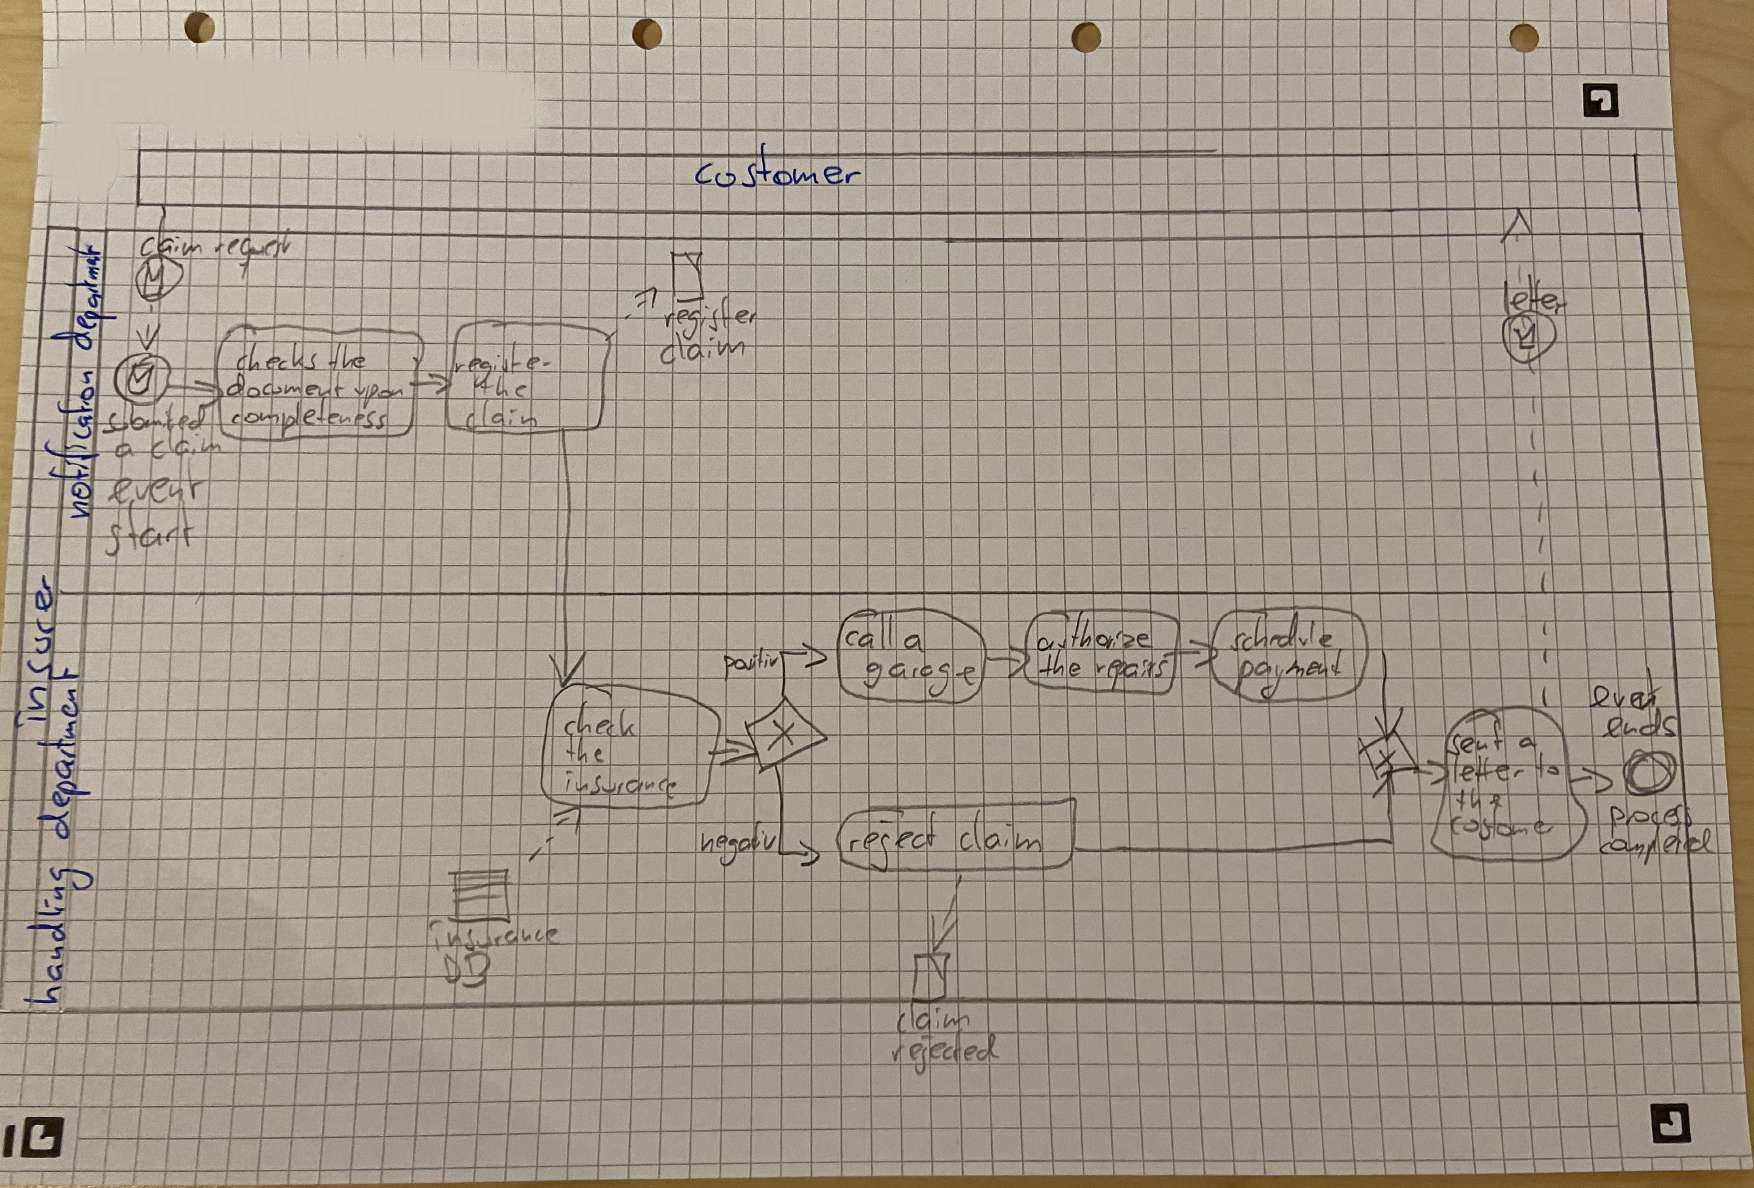DB: (438, 945, 498, 994)
a: (896, 628, 929, 659), (109, 438, 142, 464), (1511, 731, 1545, 754)
authorize: (1031, 605, 1160, 656)
call: (838, 606, 900, 656)
check: (558, 695, 644, 744)
checks: (228, 334, 326, 378)
claim: (953, 805, 1047, 862), (654, 325, 754, 371), (134, 209, 209, 267), (890, 994, 977, 1039), (143, 424, 229, 467)
clain: (460, 392, 545, 439)
completed: (1594, 821, 1724, 872)
completeness: (225, 391, 396, 445)
costomer: (688, 137, 871, 195)
customer: (1442, 796, 1563, 847)
department: (29, 662, 98, 846), (44, 237, 125, 358)
document: (221, 365, 350, 404)
ends: (1594, 701, 1686, 746)
event: (99, 452, 213, 512), (1583, 660, 1669, 717)
garage: (856, 656, 984, 703)
handling: (15, 858, 103, 1012)
insurance: (422, 914, 567, 959), (557, 765, 685, 807)
insurer: (5, 567, 65, 735)
letter: (1491, 267, 1574, 325), (1446, 748, 1531, 792)
negativ: (693, 815, 785, 872)
notification: (38, 363, 107, 526)
payment: (1226, 642, 1352, 705)
positiv: (716, 643, 786, 688)
process: (1606, 797, 1700, 846)
register: (448, 335, 561, 395), (658, 290, 768, 347)
reject: (841, 805, 945, 878)
rejected: (886, 1022, 1006, 1081)
repairs: (1088, 652, 1175, 696)
request: (209, 220, 300, 286)
schedule: (1224, 606, 1342, 658)
sent: (1438, 713, 1509, 762)
start: (97, 493, 203, 562)
submited: (95, 400, 213, 440)
the: (559, 729, 613, 770), (1033, 644, 1086, 684), (323, 335, 373, 378), (475, 369, 534, 403), (1450, 782, 1509, 817)
to: (1529, 746, 1567, 788)
upon: (347, 377, 412, 415)
